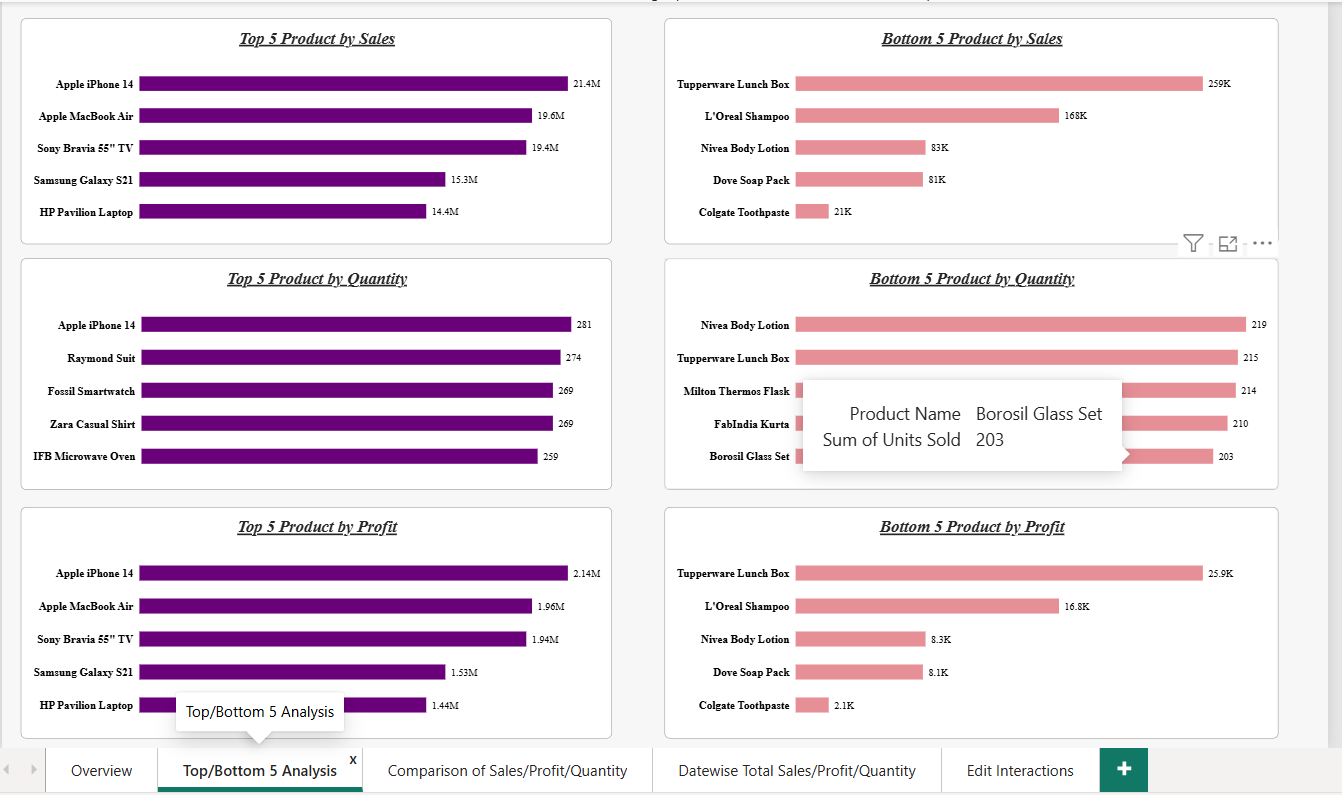

The page's visual inventory and layout, read from the dashboard file:
{"tool":"powerbi","page":{"name":"Top/Bottom 5 Analysis","canvas":[1920,1080],"ordinal":1},"visuals":[{"type":"barChart","title":"Top 5 Product by Sales ","fields":{"Category":["Dim Product.Product Name"],"Y":["Sum(Fact Table.Net Sales )"]},"box":[26.8,22.6,856.3,327.3],"z":0},{"type":"barChart","title":"Bottom 5 Product by Sales ","fields":{"Category":["Dim Product.Product Name"],"Y":["Sum(Fact Table.Net Sales )"]},"box":[959.2,22.6,889.2,327.3],"z":1000},{"type":"barChart","title":"Top 5 Product by Quantity","fields":{"Category":["Dim Product.Product Name"],"Y":["Sum(Fact Table.Units Sold)"]},"box":[26.8,370.5,856.3,335.5],"z":2000},{"type":"barChart","title":"Bottom 5 Product by Quantity","fields":{"Category":["Dim Product.Product Name"],"Y":["Sum(Fact Table.Units Sold)"]},"box":[959.2,370.5,889.2,335.5],"z":3000},{"type":"barChart","title":"Top 5 Product by Profit","fields":{"Category":["Dim Product.Product Name"],"Y":["Sum(Fact Table.Profit)"]},"box":[26.8,730.7,856.3,335.5],"z":4000},{"type":"barChart","title":"Bottom 5 Product by Profit","fields":{"Category":["Dim Product.Product Name"],"Y":["Sum(Fact Table.Profit)"]},"box":[959.2,730.7,889.2,335.5],"z":5000}]}

Visuals, with their boxes on the page's 1920x1080 design canvas (x1, y1, x2, y2). These are canvas units, not pixel positions in the 1342x795 screenshot, which may show the page scaled, cropped or inside an application window:
"Top 5 Product by Sales " barChart: region(27, 23, 883, 350)
"Bottom 5 Product by Sales " barChart: region(959, 23, 1848, 350)
"Top 5 Product by Quantity" barChart: region(27, 370, 883, 706)
"Bottom 5 Product by Quantity" barChart: region(959, 370, 1848, 706)
"Top 5 Product by Profit" barChart: region(27, 731, 883, 1066)
"Bottom 5 Product by Profit" barChart: region(959, 731, 1848, 1066)
